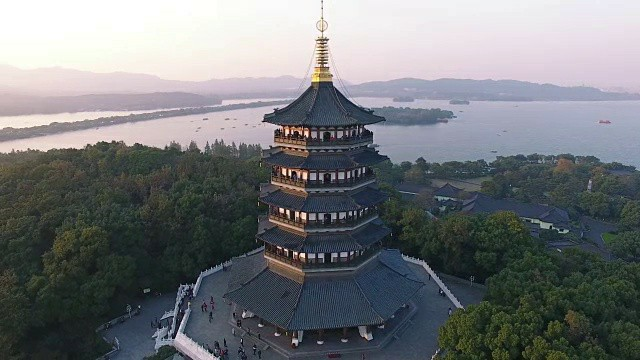Leifeng: (218, 1, 429, 345)
